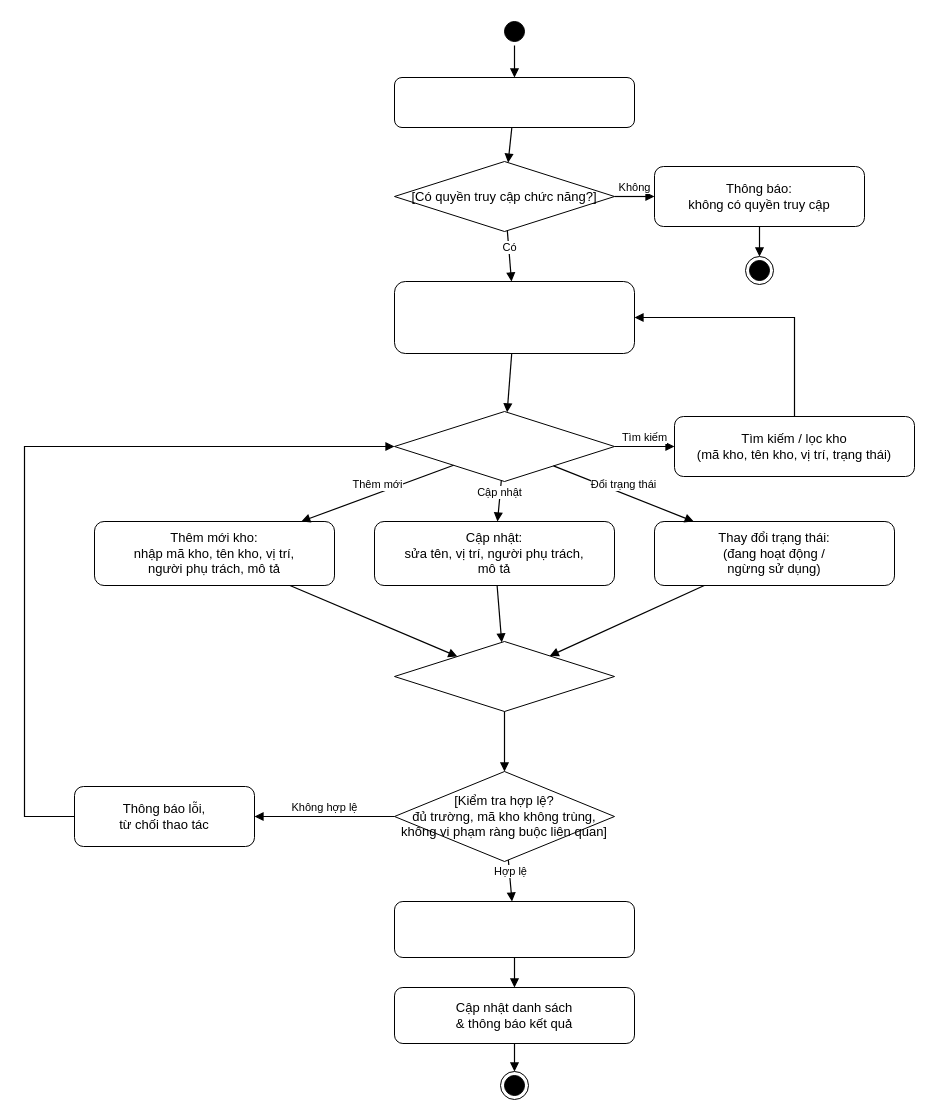
The diagram is 933 pixels wide and 1117 high, and some of its shapes have lost their labels. The shapes that lost their labels are listed below. From the top down, each one's centre as x and y in pixels, then its label:
the point at 514,102: Mở màn hình quản lý kho
the point at 514,317: Hiển thị danh sách kho (mã kho, tên kho, vị trí/địa chỉ, trạng thái)
the point at 504,446: [Chọn thao tác]
the point at 514,929: Lưu dữ liệu kho vào cơ sở dữ liệu (qua Repository)
